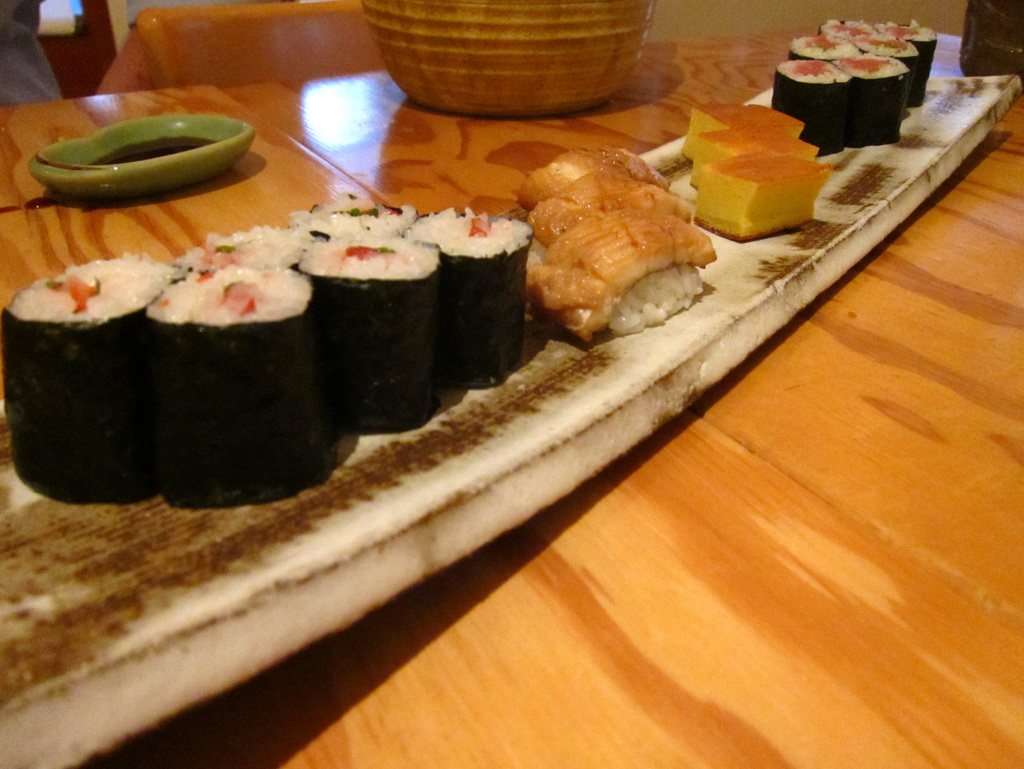sushi: (1, 142, 707, 481), (2, 259, 163, 487), (772, 21, 937, 154)
